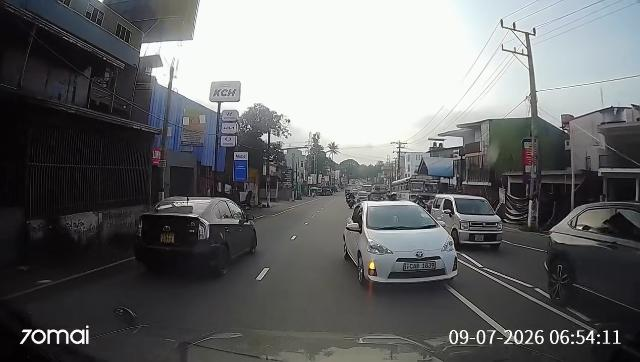illegal overtaking: (339, 196, 458, 293)
number plate: (396, 256, 441, 274)
